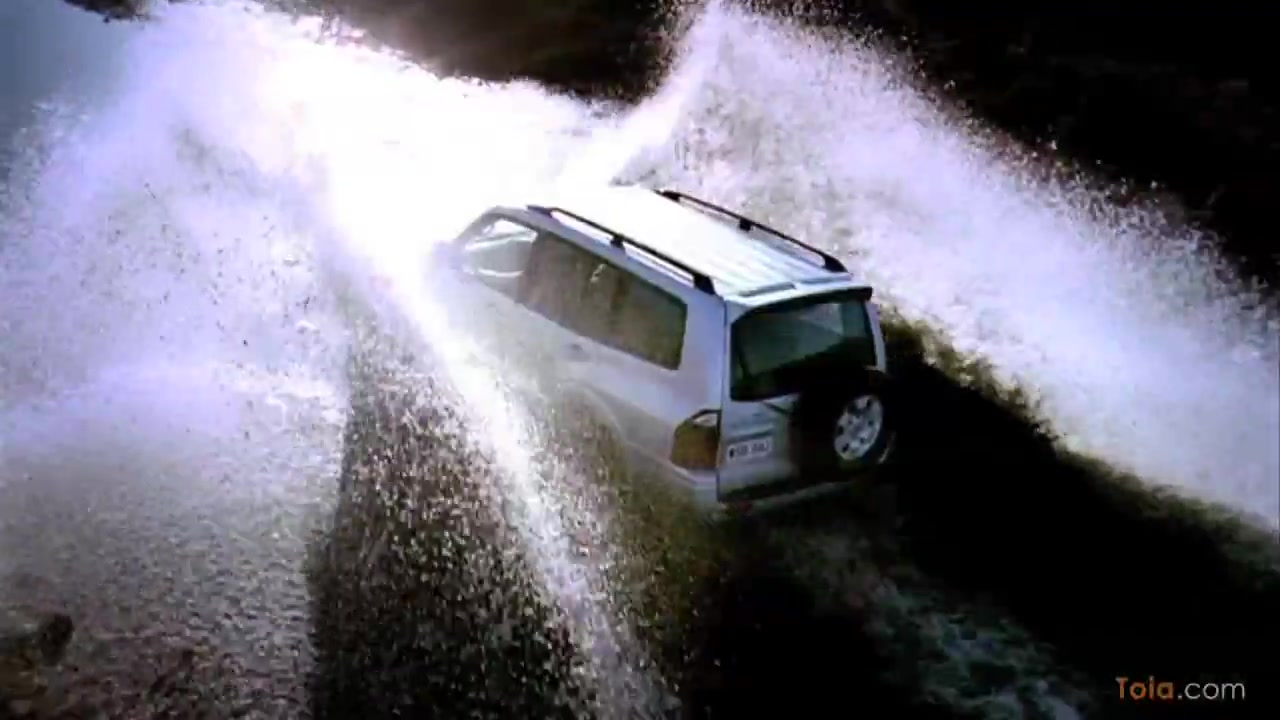car: (423, 183, 895, 529)
